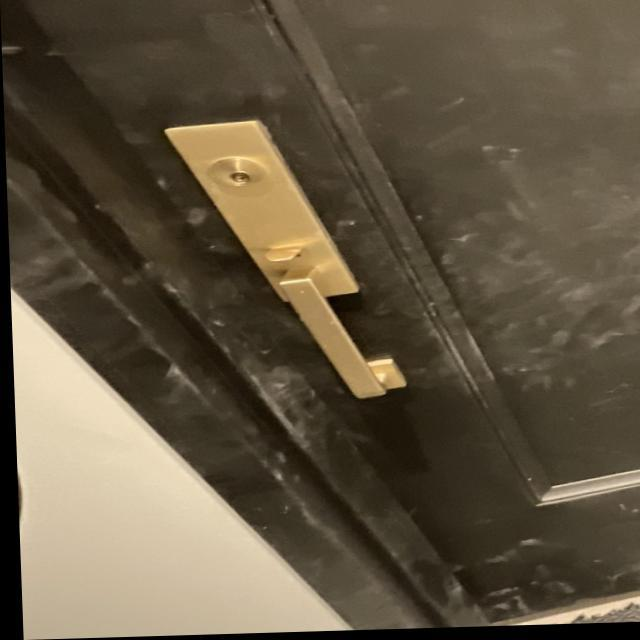door_handle: (242, 264, 412, 415)
